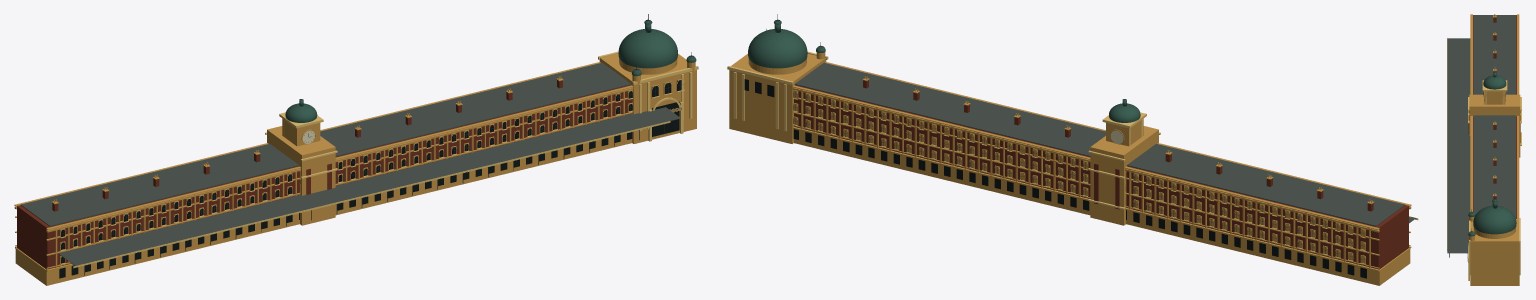
File: stations-flinders.glb
The picture shows the model from 3 angles, left to right: view 1: azimuth 30°, elevation 25°; view 2: azimuth 150°, elevation 25°; view 3: azimuth 270°, elevation 25°; orthographic projection. The views are drawn at different scales.
Visible parts, largest first — view 1: FSS_roof, FSS_ochre, FSS_brick, FSS_glass, FSS_lightstone, FSS_copper, FSS_iron; view 2: FSS_ochre, FSS_roof, FSS_brick, FSS_lightstone, FSS_glass, FSS_copper, FSS_iron; view 3: FSS_roof, FSS_ochre, FSS_copper, FSS_lightstone, FSS_brick.
Boxes of the visible parts, x1,y1,x2,y2 form: FSS_roof: (21, 63, 680, 265); FSS_ochre: (14, 53, 696, 285); FSS_brick: (17, 80, 631, 269); FSS_glass: (59, 80, 681, 278); FSS_lightstone: (56, 51, 698, 268); FSS_copper: (285, 20, 696, 122); FSS_iron: (61, 14, 693, 275); FSS_ochre: (729, 52, 1411, 285); FSS_roof: (794, 62, 1415, 226); FSS_brick: (794, 80, 1408, 269); FSS_lightstone: (727, 51, 1418, 264); FSS_glass: (744, 79, 1366, 278); FSS_copper: (748, 20, 1140, 122); FSS_iron: (766, 14, 1364, 259); FSS_roof: (1447, 15, 1515, 253); FSS_ochre: (1468, 14, 1520, 285); FSS_copper: (1468, 72, 1516, 236); FSS_lightstone: (1447, 38, 1521, 280); FSS_brick: (1468, 15, 1520, 218).
Size of the model in its own units: 309 by 50 by 42.38.
